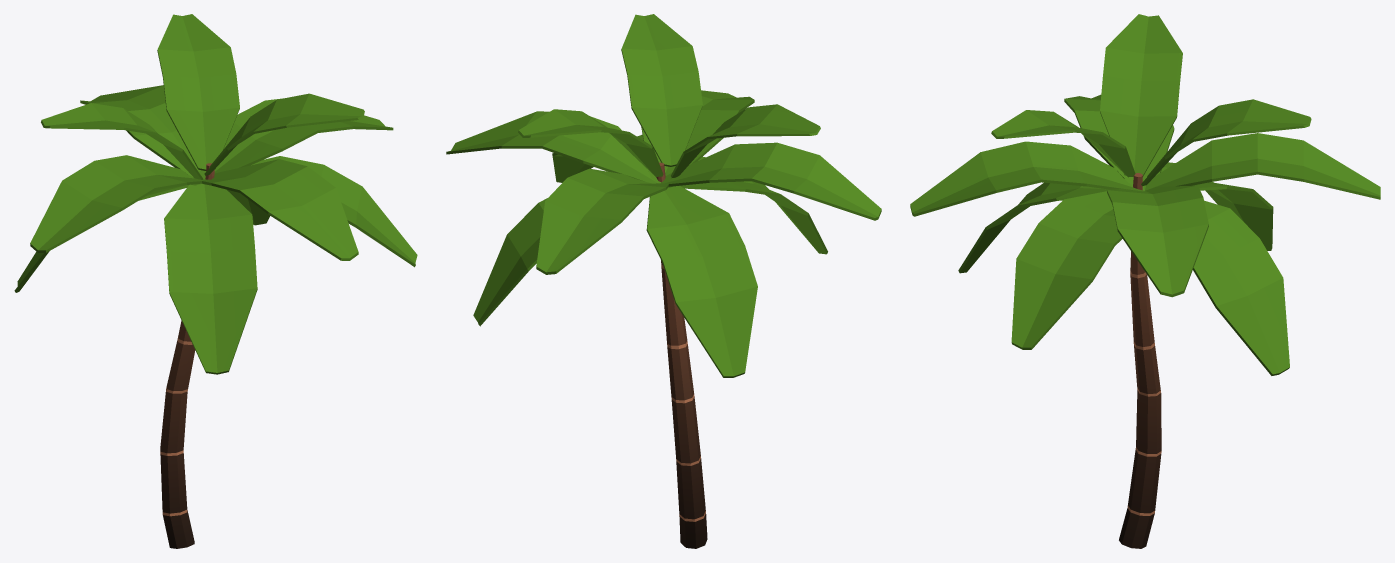
File: tree.fbx
3 views of the same model, side by side, from view 1: azimuth 30°, elevation 25°; view 2: azimuth 150°, elevation 25°; view 3: azimuth 270°, elevation 25° (orthographic). The views are drawn at different scales.
Visible parts, largest first — view 1: Cylinder.025; view 2: Cylinder.025; view 3: Cylinder.025.
Boxes of the visible parts, box(x1,y1,x2,y2) form: Cylinder.025: box(14, 14, 417, 548); Cylinder.025: box(446, 14, 881, 548); Cylinder.025: box(910, 14, 1380, 548).
Size of the model in its own units: 33.01 by 36.57 by 33.16.
1 material, 1 textured.
